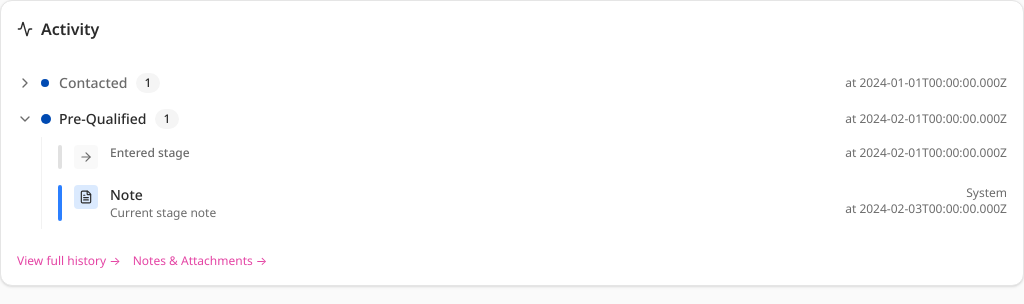
ActivityTimeline › keeps other stages collapsed after collapsing the current stage and opening another one
Expected: the button "Contacted 1 at 2024-01-01T00:00:00.000Z" is shown, [17,65,1007,101]
Expected: the text "Current stage note" is shown, [110,204,216,221]
Click the button "Pre-Qualified" at (103, 118), box [17,101,1007,137]
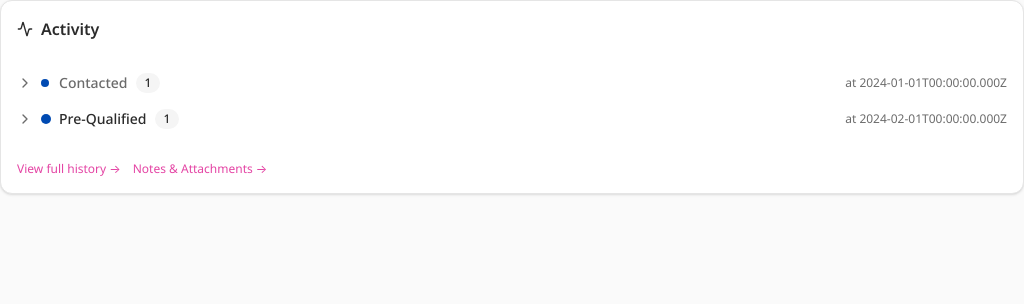
Result: the text "Current stage note" is gone
Click the button "Contacted 1 at 2024-01-01T00:00:00.000Z" at (93, 82), box [17,65,1007,101]
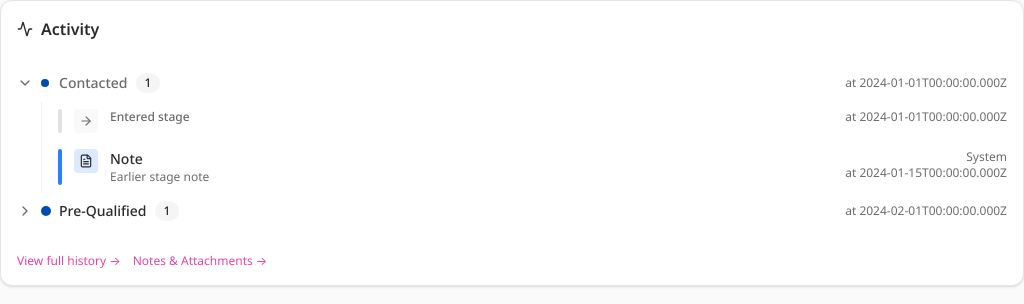
Expected: the text "Current stage note" is not shown
Result: the text "Earlier stage note" is shown at [110,168,209,185]
